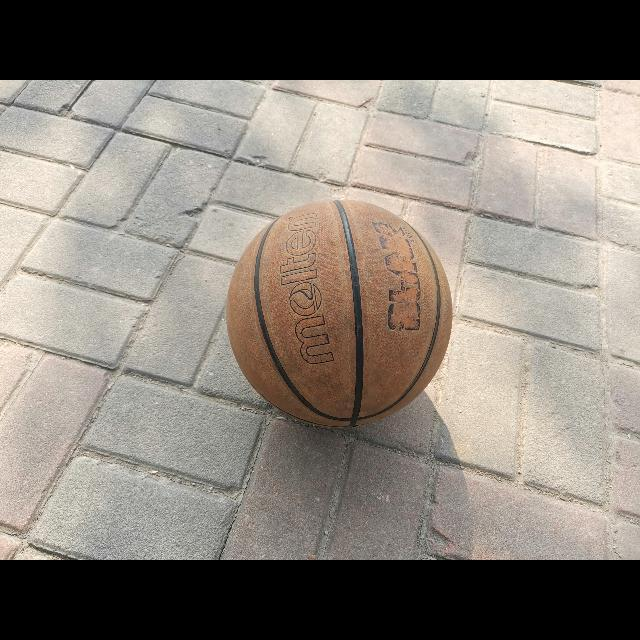basketball: (226, 198, 452, 426)
